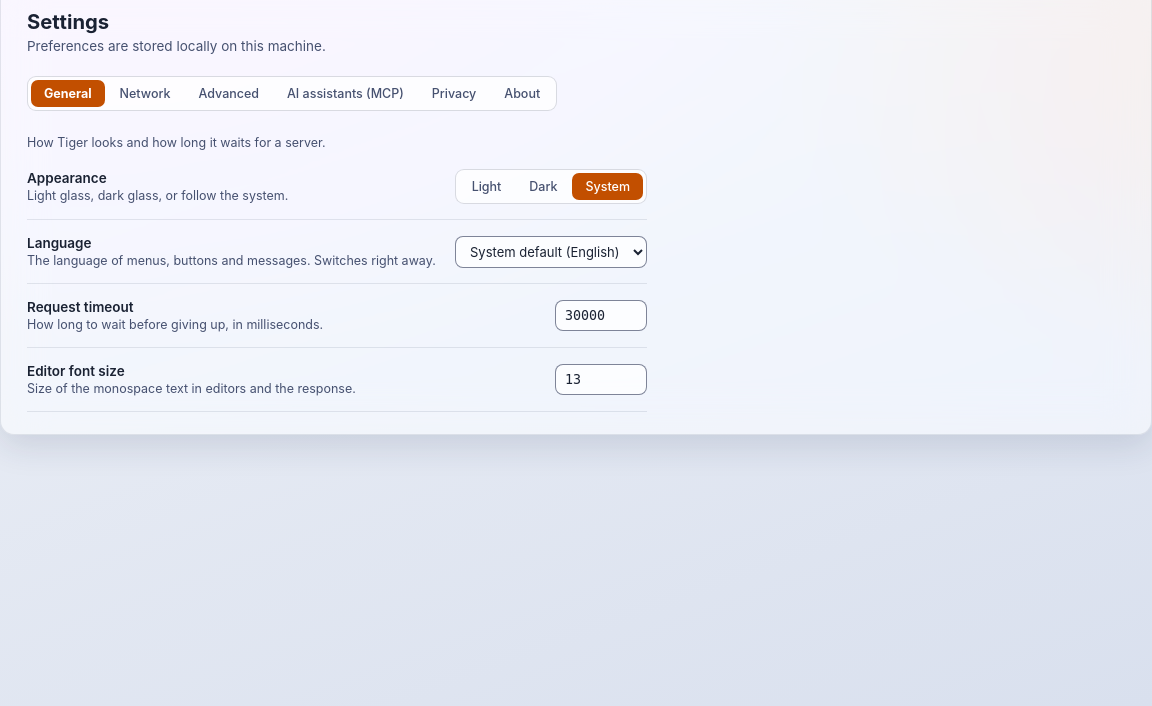
Test: SettingsView extras › renders the Certificates group inside the Advanced tab
The image size is (1152, 706).
Click the tab "Advanced": (229, 94) [186,80,272,107]
(page scrolled)
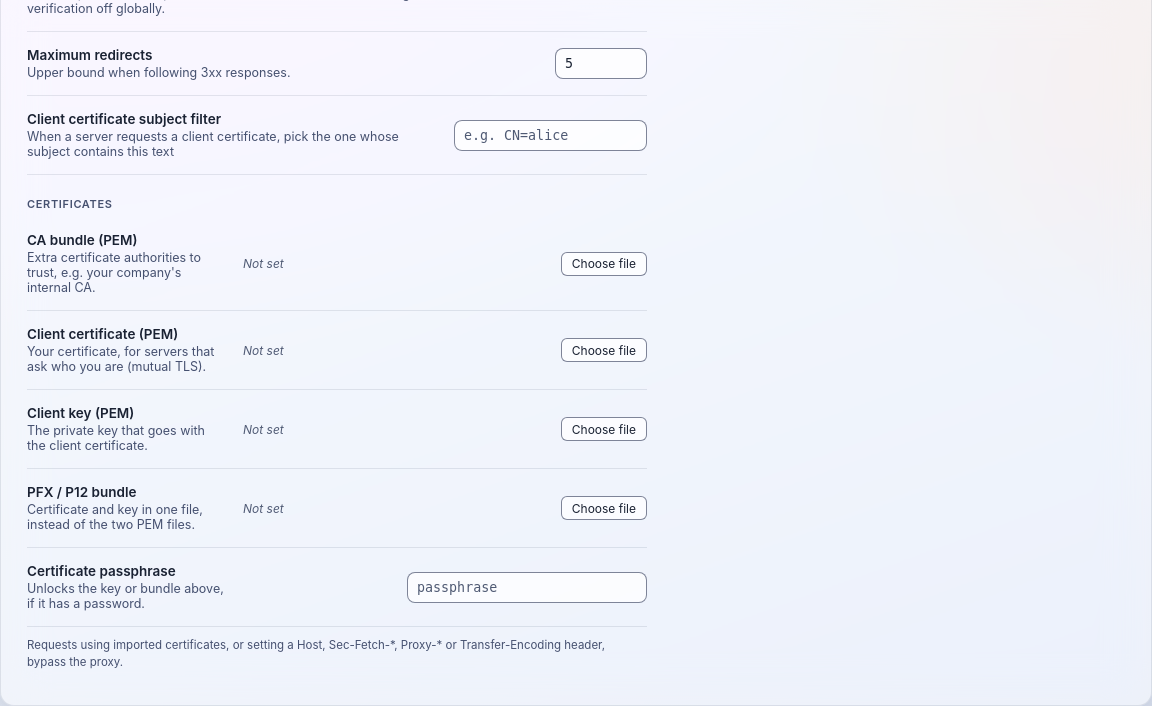
Now the heading "Certificates" is shown, box [27,197,113,211]
Now the text "CA bundle (PEM)" is shown, box [27,232,138,248]
Now the text "Client certificate (PEM)" is shown, box [27,326,178,342]
